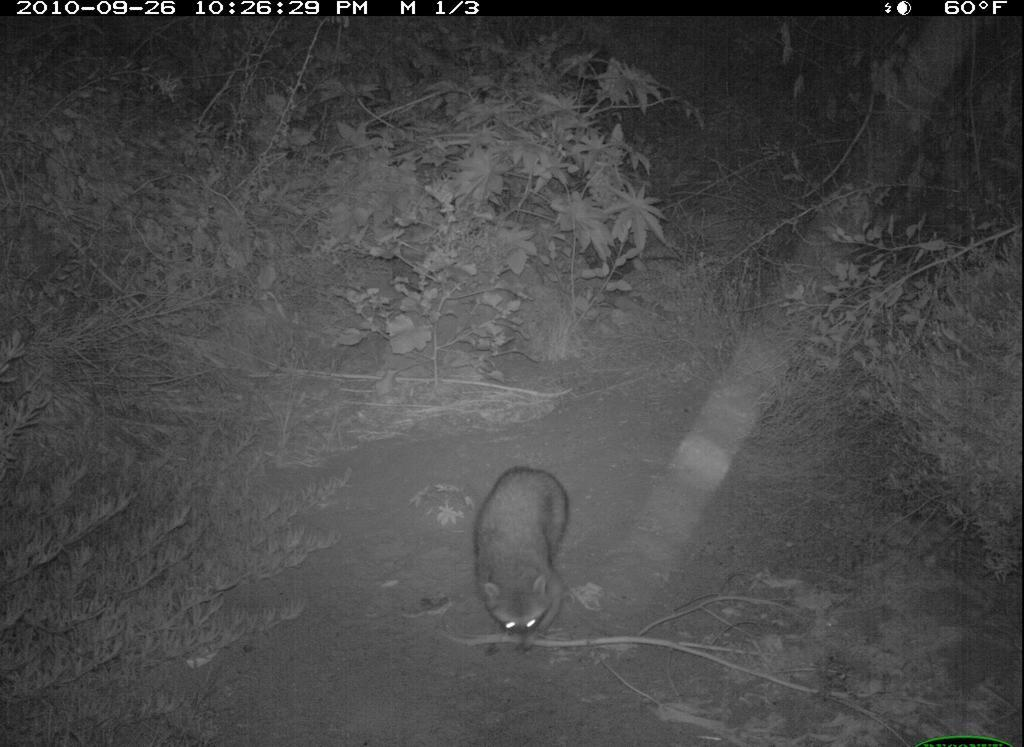raccoon: (457, 455, 580, 661)
